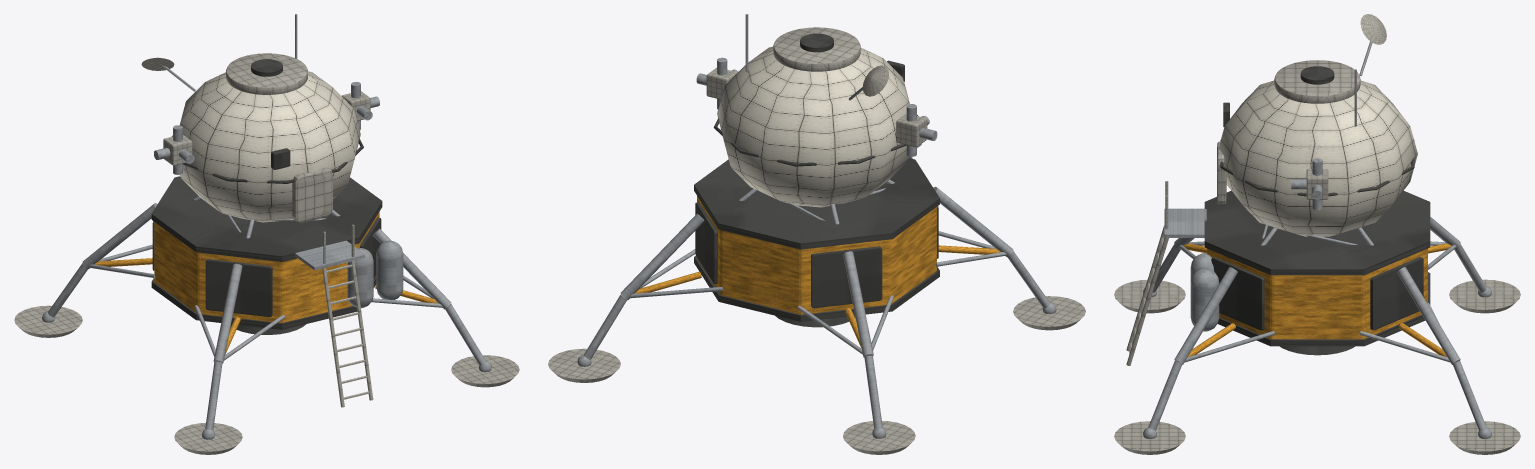
The model's file is lander.glb.
The picture shows the model from 3 angles, left to right: view 1: azimuth 30°, elevation 25°; view 2: azimuth 150°, elevation 25°; view 3: azimuth 270°, elevation 25°; orthographic projection. The views are drawn at different scales.
Visible parts, largest first — view 1: Cylinder; view 2: Cylinder; view 3: Cylinder.
Boxes of the visible parts, left/top/right/bottom form: Cylinder: left=14, top=14, right=519, bottom=454; Cylinder: left=548, top=14, right=1085, bottom=454; Cylinder: left=1114, top=14, right=1520, bottom=454.
Bounding box in the file's own units: 8.5 × 7.52 × 8.5.
Materials: 5 (5 with a texture image).
